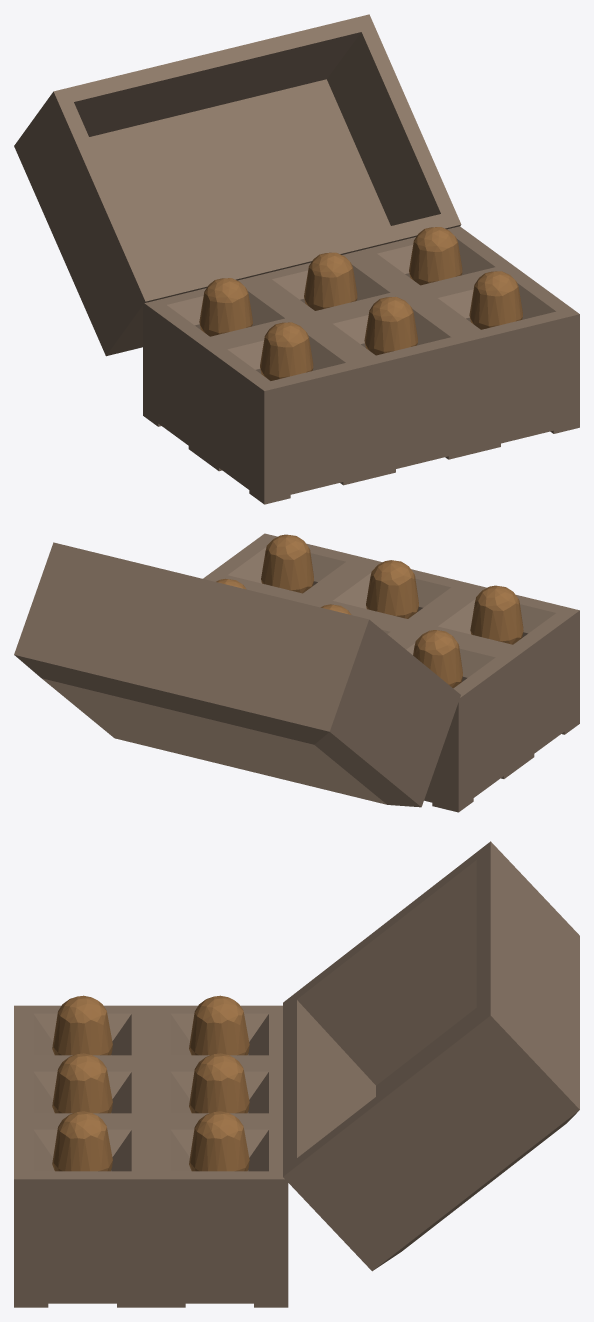
The model's file is eggs.fbx.
3 views of the same model, one above another, from view 1: azimuth 30°, elevation 25°; view 2: azimuth 150°, elevation 25°; view 3: azimuth 270°, elevation 25° (orthographic). The views are drawn at different scales.
Visible parts, largest first — view 1: Cube.001, Cube, Sphere; view 2: Cube.001, Cube, Sphere; view 3: Cube.001, Cube, Sphere.
Part boxes in pixels (box(x1,y1,x2,y2)): Cube.001: box(14, 14, 461, 356); Cube: box(143, 226, 579, 504); Sphere: box(199, 227, 522, 380); Cube.001: box(14, 542, 460, 807); Cube: box(203, 533, 579, 812); Sphere: box(216, 534, 523, 688); Cube.001: box(283, 841, 579, 1271); Cube: box(14, 1005, 288, 1307); Sphere: box(52, 995, 249, 1171).
Size of the model in its own units: 601 by 470 by 825.
